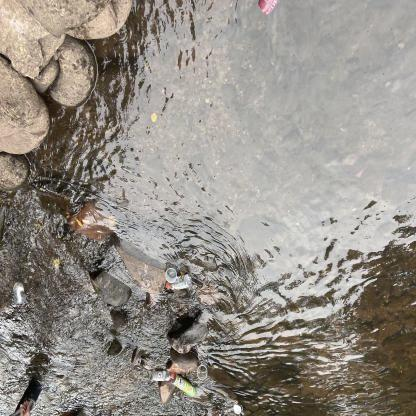Metal: (169, 372, 198, 398)
Plastic: (162, 266, 193, 292), (254, 0, 283, 19), (11, 280, 28, 308), (150, 367, 176, 385)
